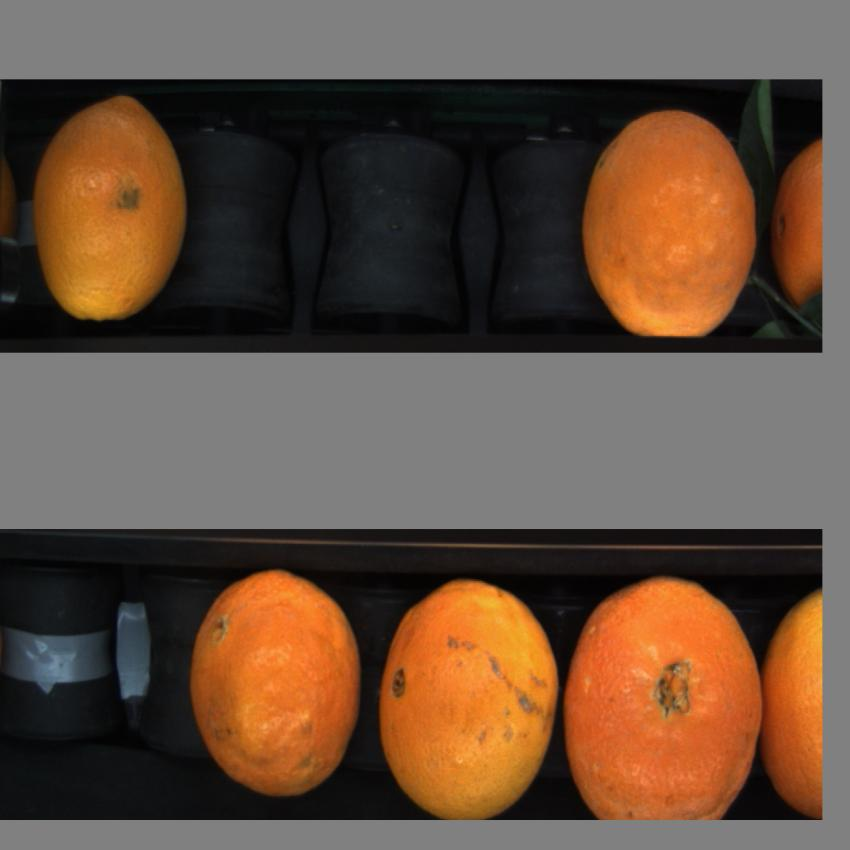Buen estado: (563, 571, 764, 826), (375, 568, 563, 819), (574, 99, 760, 334), (184, 567, 366, 797), (26, 88, 198, 325), (762, 570, 822, 816), (769, 124, 822, 311)
